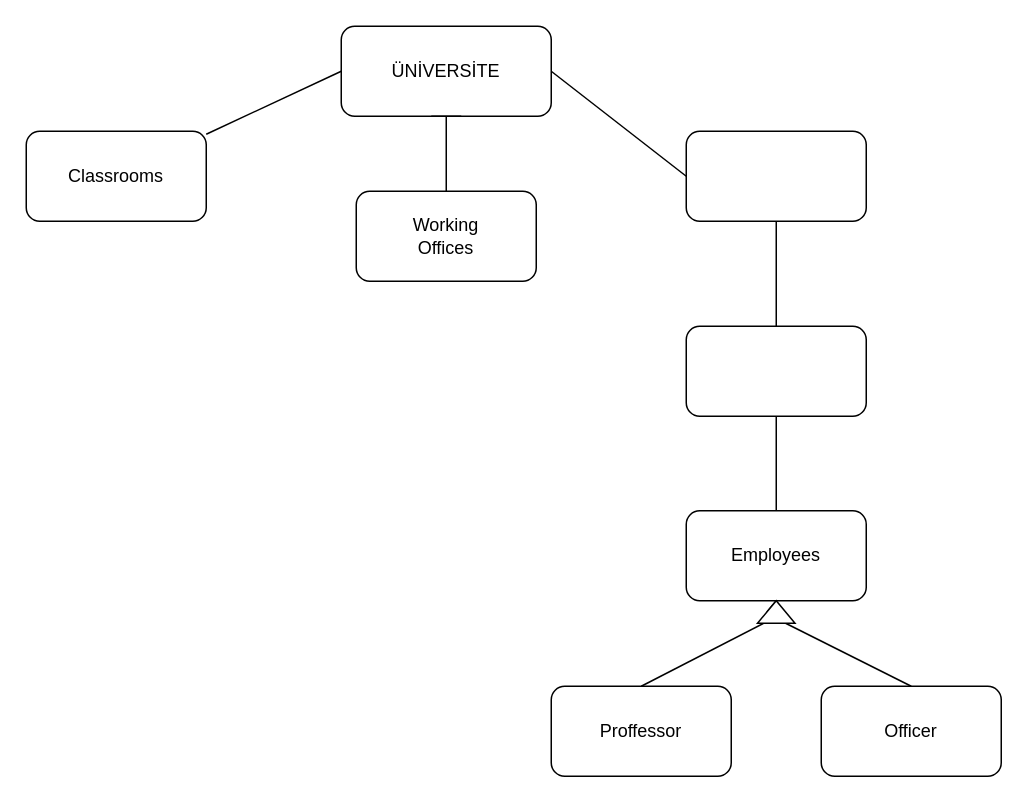
The diagram is 1028 pixels wide and 803 high, and some of its shapes have lost their labels. Here are the shapes that lost their labels. From the top down, the centre of each, then its label:
(775,175): Departments
(775,370): Office
